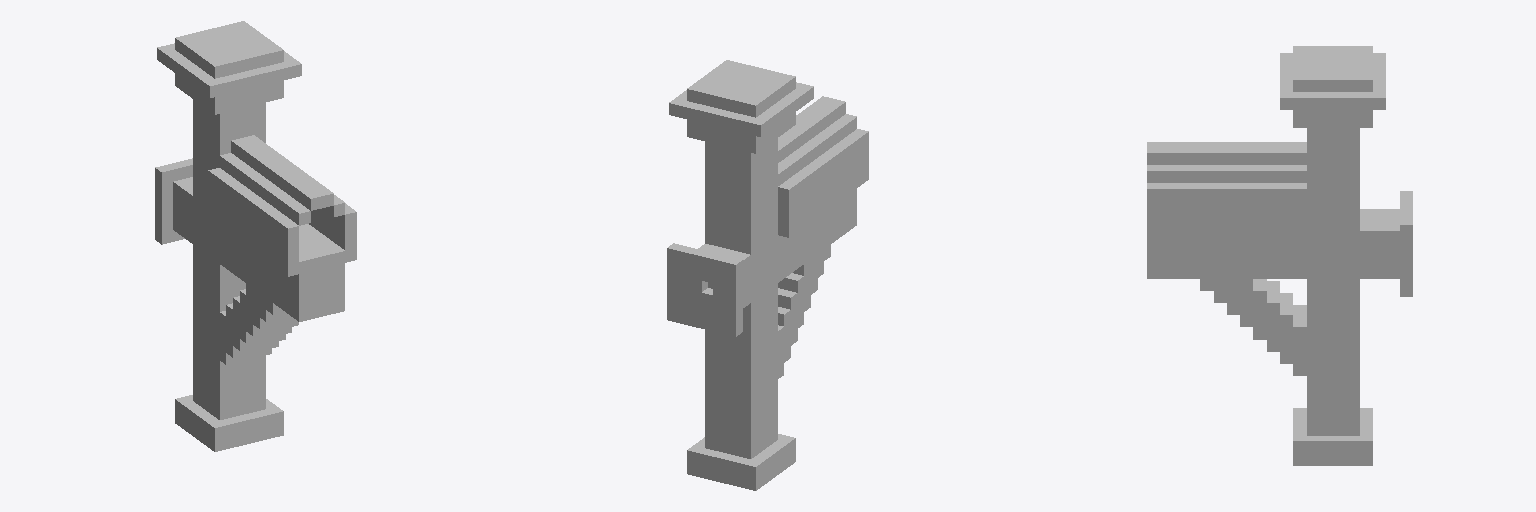
Rendered from others2 - Kopya-4.obj.
The picture shows the model from 3 angles: view 1: azimuth 30°, elevation 25°; view 2: azimuth 150°, elevation 25°; view 3: azimuth 270°, elevation 25°; orthographic projection.
Visible parts, largest first — view 1: object 1; view 2: object 1; view 3: object 1.
Boxes of the visible parts, x1,y1,x2,y2 form: object 1: [155, 21, 356, 451]; object 1: [667, 60, 868, 490]; object 1: [1147, 46, 1412, 465].
Size of the model in its own units: 0.8 by 3.2 by 2.